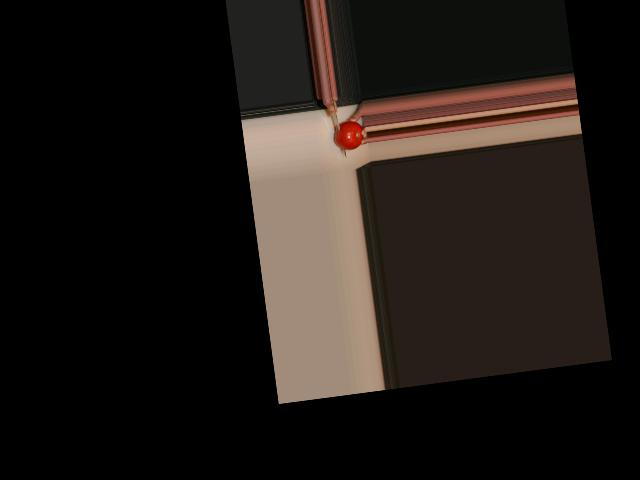tomato: (332, 119, 365, 152)
